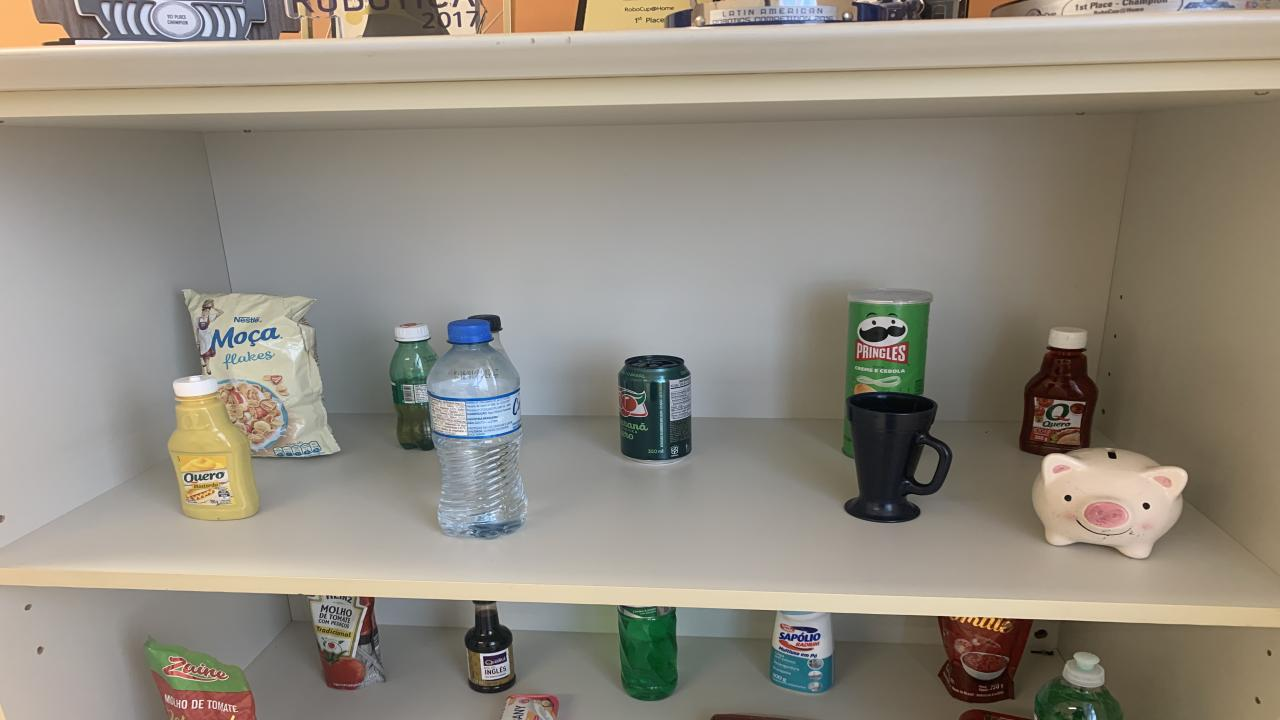Cleaner-Cleanup_Items: (770, 611, 832, 694)
Detergent-Cleanup_Items: (1035, 652, 1122, 720), (618, 606, 678, 701)
English_Sauce-Pantry_Items: (465, 600, 515, 694)
Flakes-Snacks: (182, 289, 340, 458)
Guarana-Drinks: (390, 324, 438, 450)
Guarana_Can-Drinks: (618, 354, 692, 463)
Ketchup-Pantry_Items: (1020, 326, 1098, 456)
Mustard-Pantry_Items: (168, 375, 260, 519)
Pig_Safe-Miscellaneous: (1032, 448, 1188, 559)
Pringles-Snacks: (845, 289, 932, 398)
Soap-Cleanup_Items: (500, 696, 558, 720)
Tomato_Sauce-Pantry_Items: (145, 638, 255, 720), (938, 617, 1032, 703), (308, 594, 385, 690)
Water_Bottle-Drinks: (428, 319, 528, 538)
